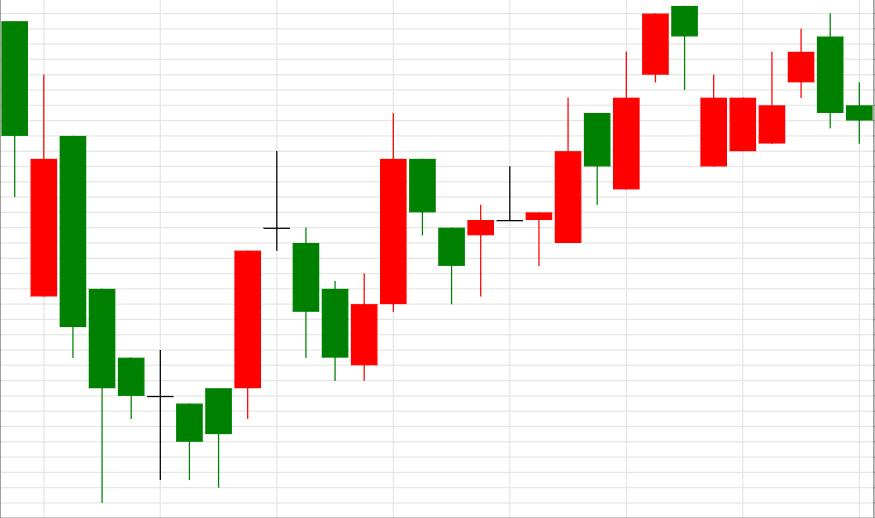hanging_man_fall: (525, 6, 698, 265)
